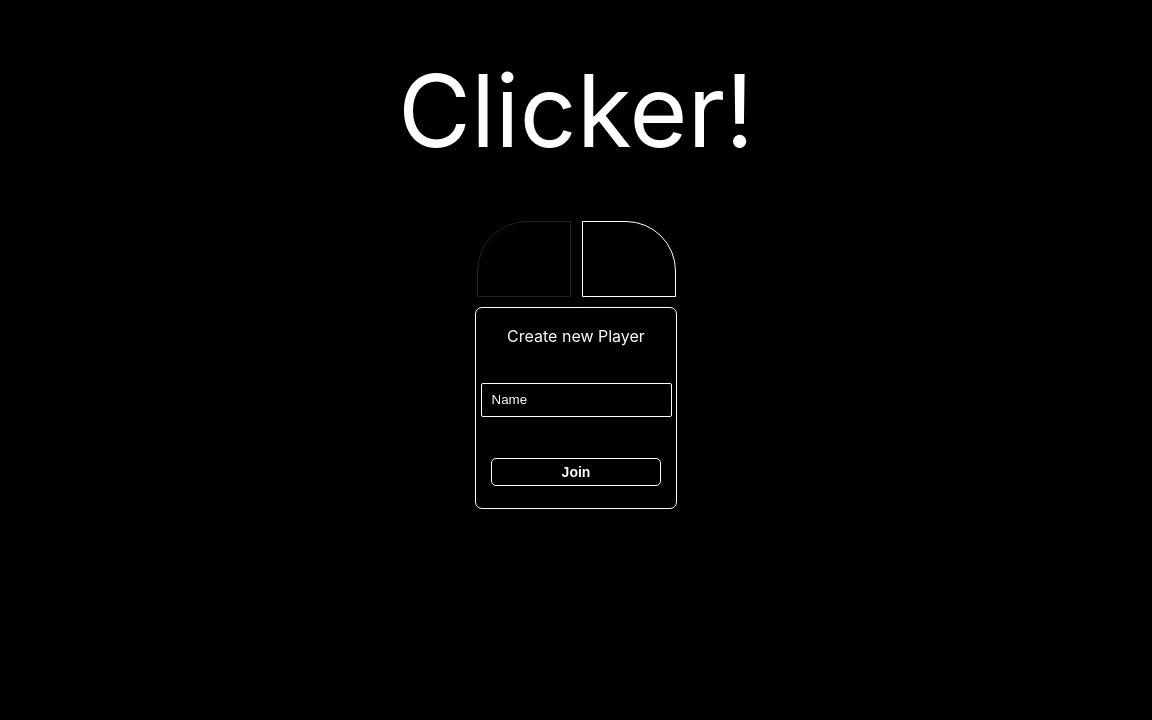
it: Game Page › should go to Game
The width and height of the screenshot is (1152, 720).
Step 1. Type "Foo" into the field with test id "input-home" → (577, 400), box [481,383,672,417]
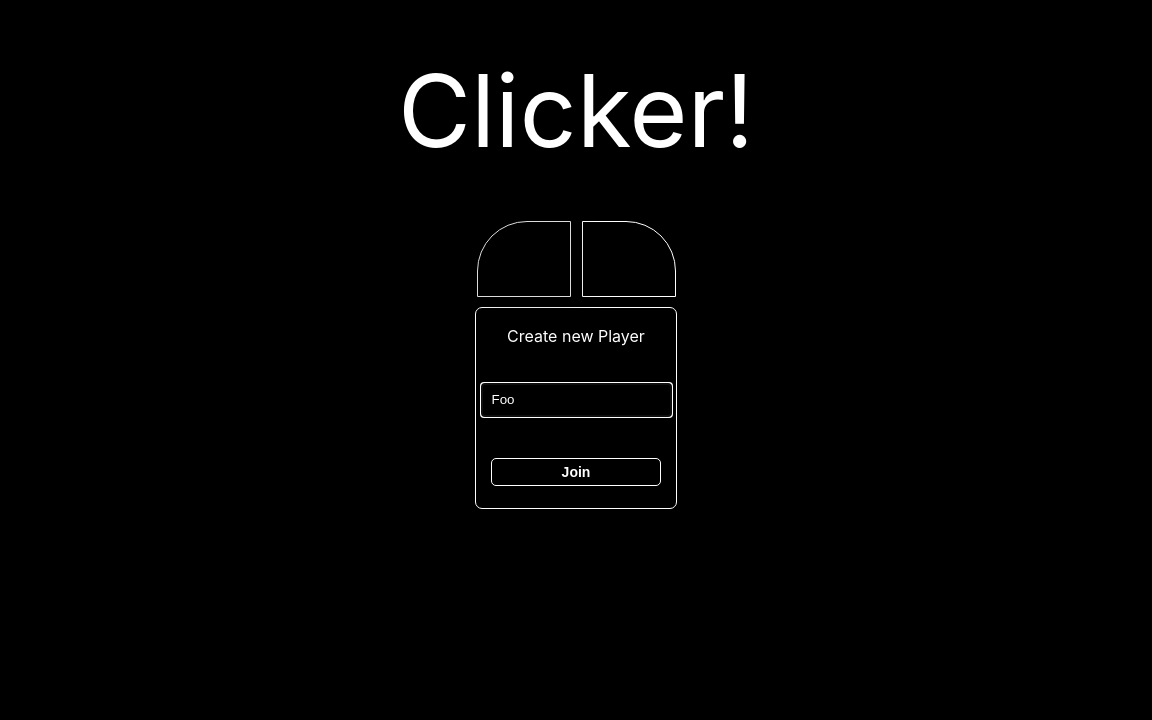
Step 2. Click the button with test id "button-home" → (577, 472), box [491,458,662,486]
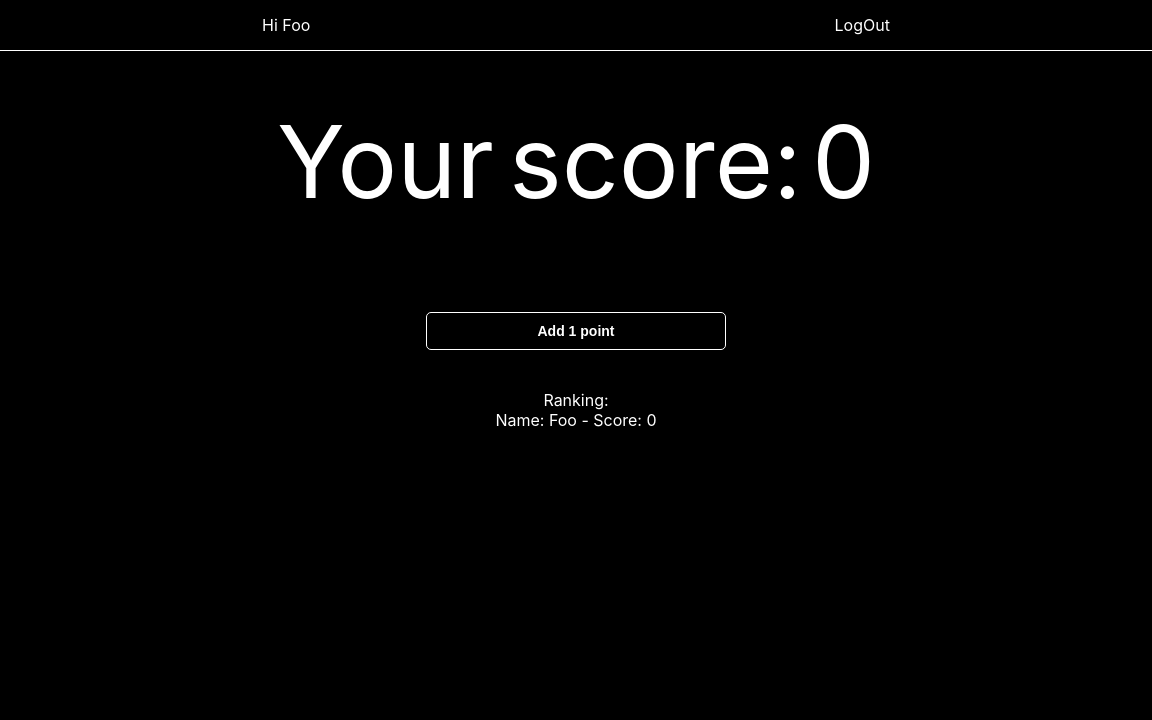
Expected: the text "Hi Foo" is shown, [262,15,310,35]
